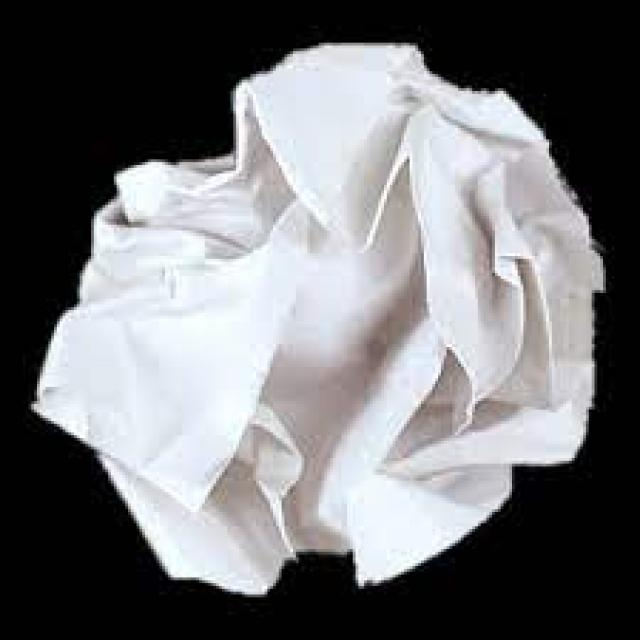crampled paper: (35, 46, 602, 594)
